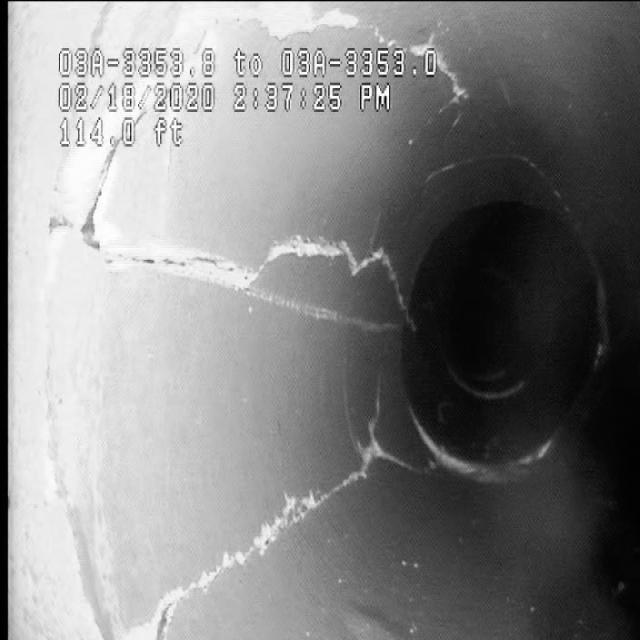Fracture: (110, 188, 390, 328), (152, 440, 390, 593)
